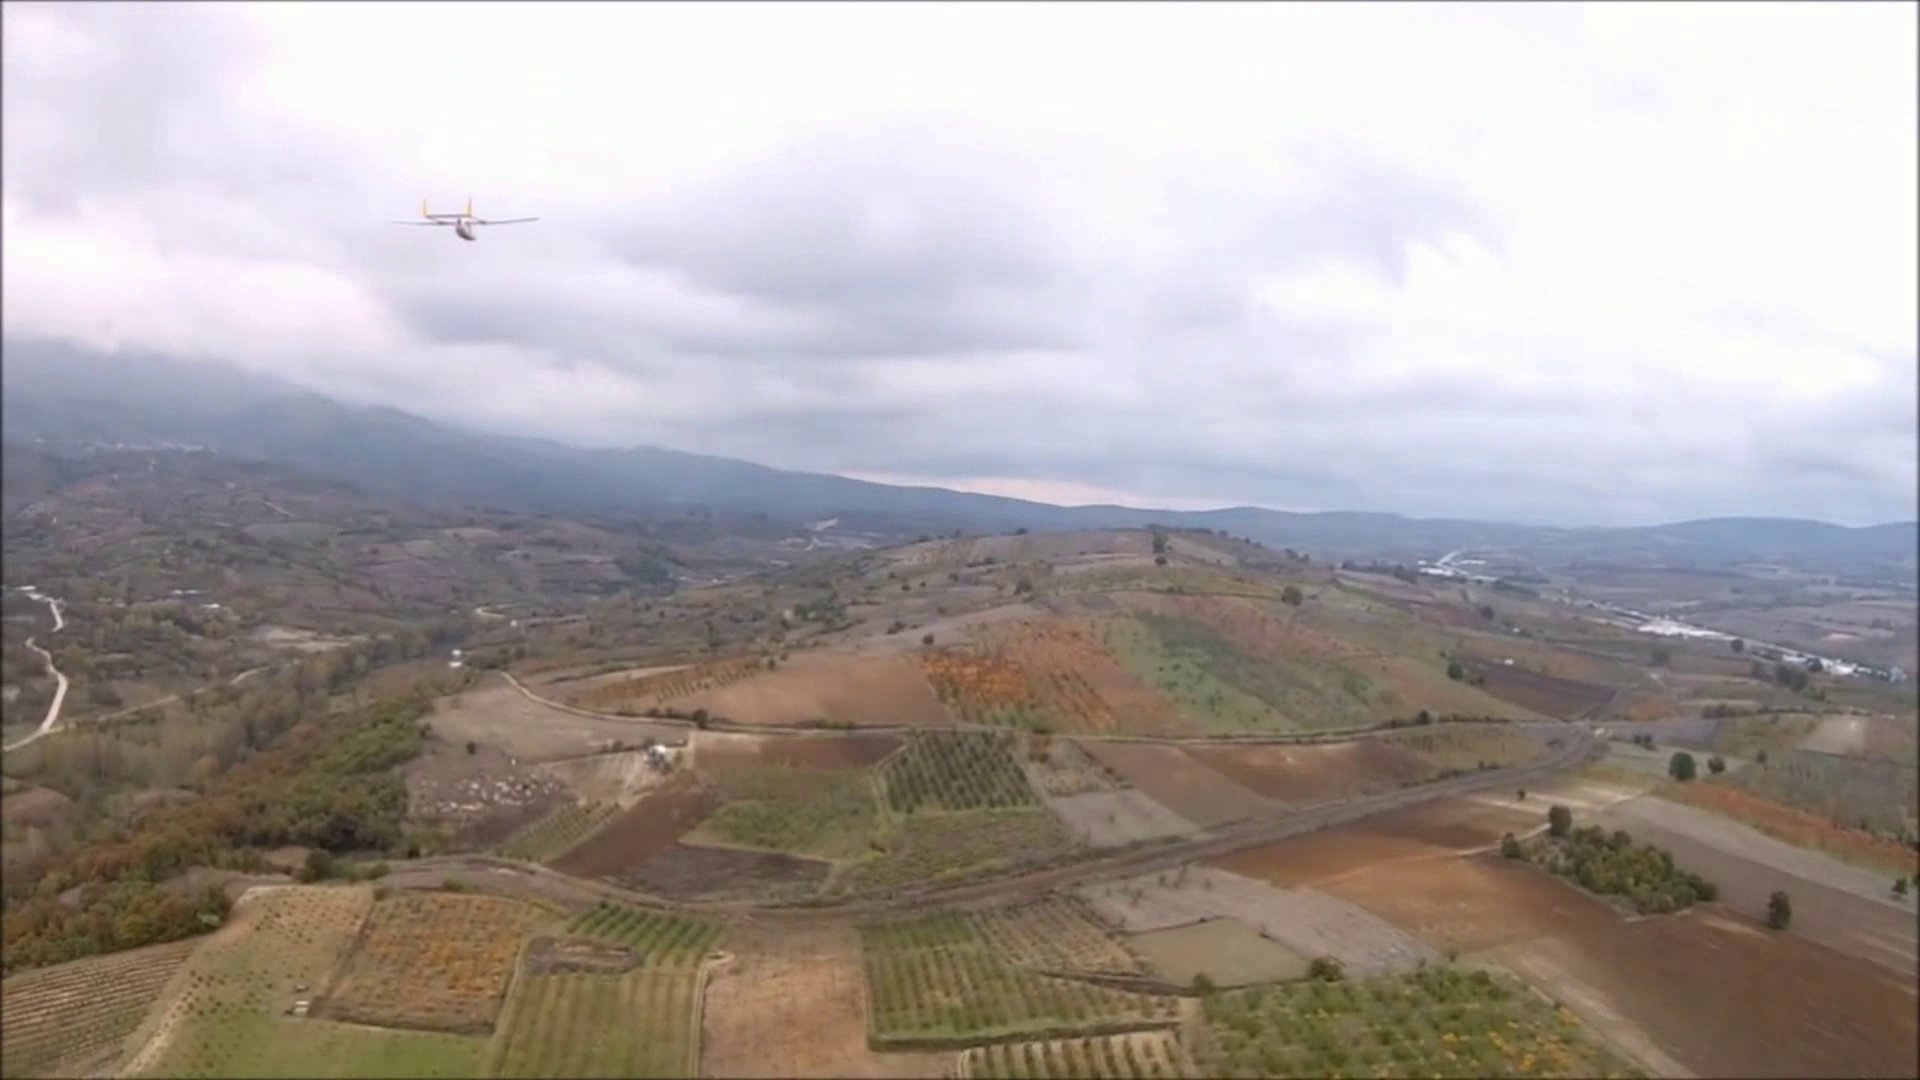airplane: (415, 196, 541, 241)
